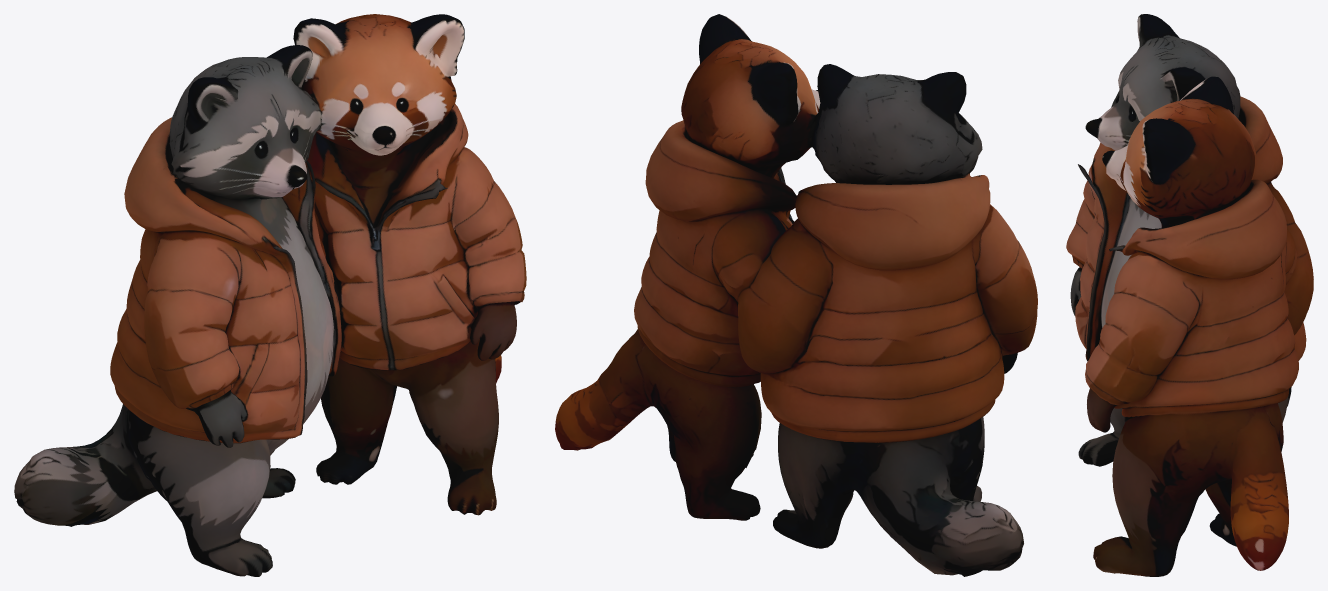
The model's file is base_basic_shaded.glb.
The picture shows the model from 3 angles, left to right: view 1: azimuth 30°, elevation 25°; view 2: azimuth 150°, elevation 25°; view 3: azimuth 270°, elevation 25°; orthographic projection. The views are drawn at different scales.
Parts seen in each view (by area): view 1: model; view 2: model; view 3: model.
Boxes of the visible parts, x1=… form: model: x1=14, y1=14, x2=526, y2=576; model: x1=555, y1=14, x2=1037, y2=576; model: x1=1066, y1=14, x2=1313, y2=576.
Size of the model in its own units: 1.88 by 1.78 by 0.9095.
1 material, 1 textured.
